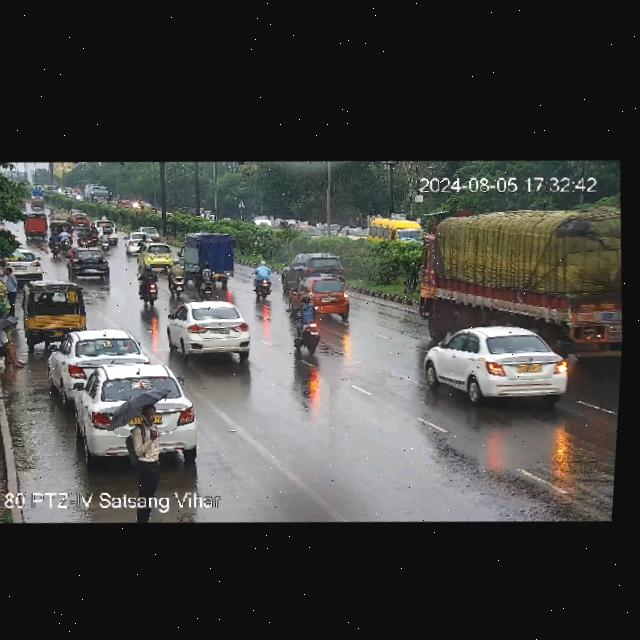bus: (370, 212, 426, 254), (84, 182, 112, 206)
car: (58, 358, 202, 470), (426, 321, 578, 413), (48, 324, 152, 386), (162, 296, 255, 359), (20, 276, 94, 340), (282, 270, 359, 322), (185, 229, 243, 288), (288, 251, 350, 282), (64, 249, 114, 283), (0, 247, 45, 283), (139, 242, 173, 272), (24, 213, 54, 241), (89, 216, 120, 243), (124, 231, 153, 256), (68, 210, 92, 229), (27, 190, 46, 210), (252, 213, 273, 228), (138, 200, 153, 212)
motorcycle: (287, 295, 331, 355), (132, 265, 164, 308), (250, 259, 281, 301), (192, 264, 222, 299), (165, 260, 193, 297), (48, 229, 63, 257), (57, 227, 72, 251), (99, 229, 113, 251), (75, 226, 89, 247)
person: (121, 403, 170, 491), (0, 323, 27, 369), (0, 266, 24, 307)
truck: (416, 192, 629, 358)
